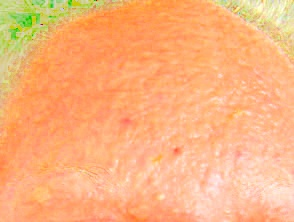SJS-TEN: (0, 12, 294, 222)
